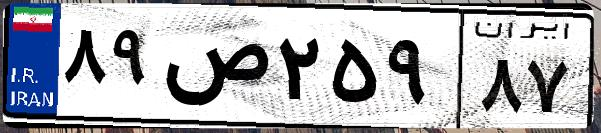2: (270, 28, 330, 110)
5: (330, 28, 385, 110)
7: (525, 38, 570, 115)
8: (57, 26, 110, 100), (475, 38, 525, 113)
9: (385, 28, 445, 110), (110, 28, 158, 98)
ص: (158, 20, 270, 120)
